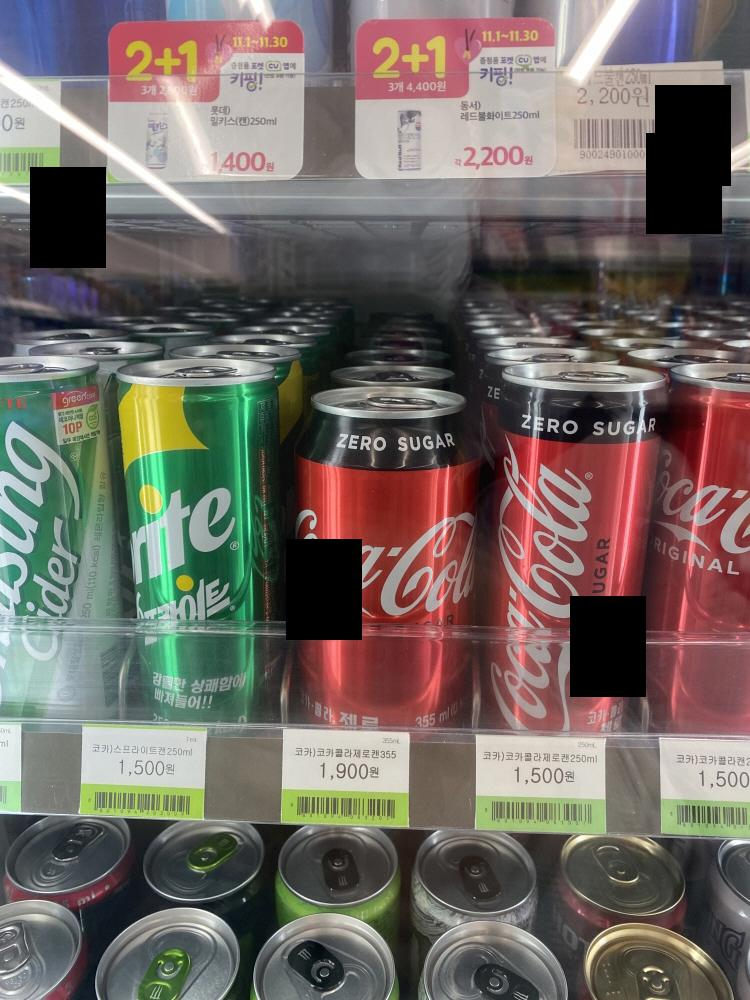cocacola_zero: (306, 383, 457, 732)
